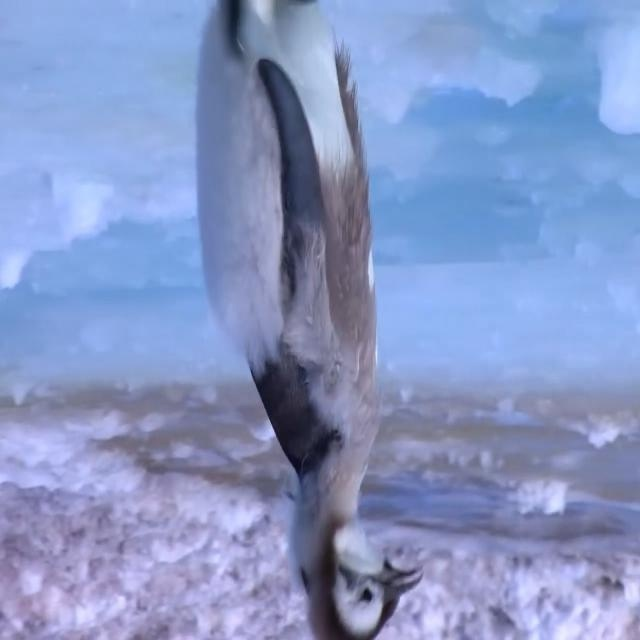penguin: (196, 2, 424, 637)
